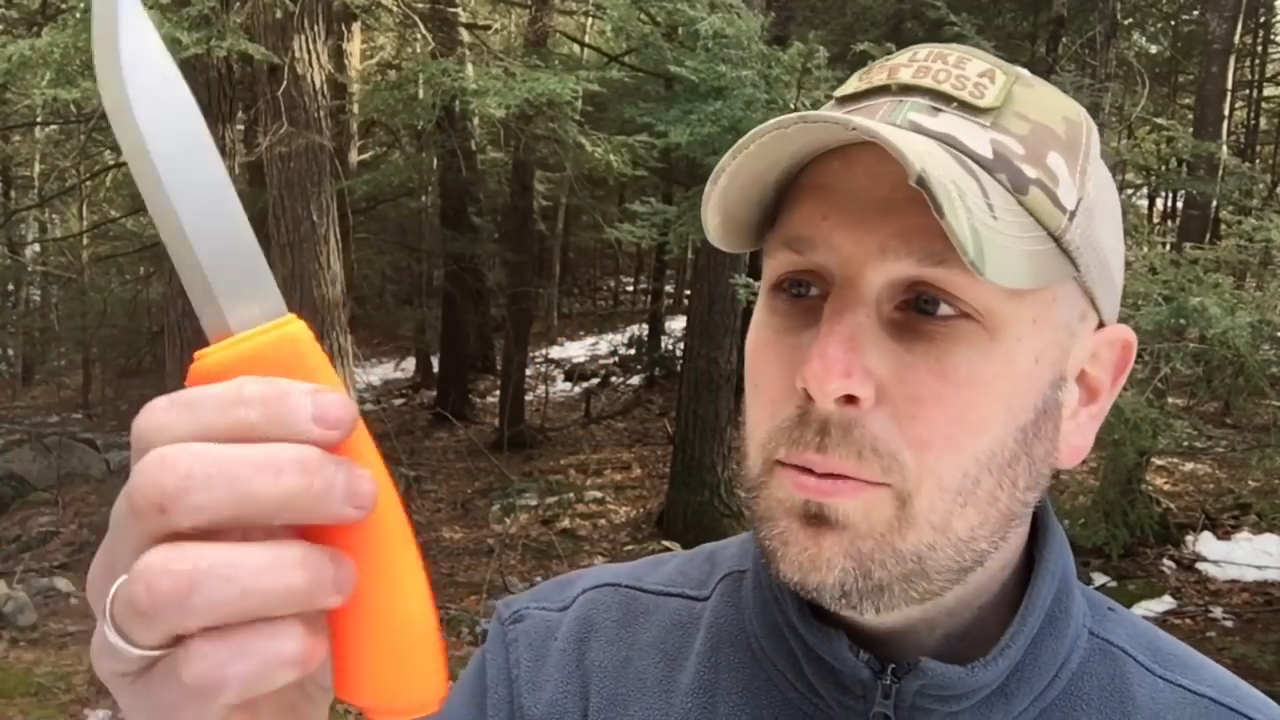knife: (83, 1, 395, 531)
